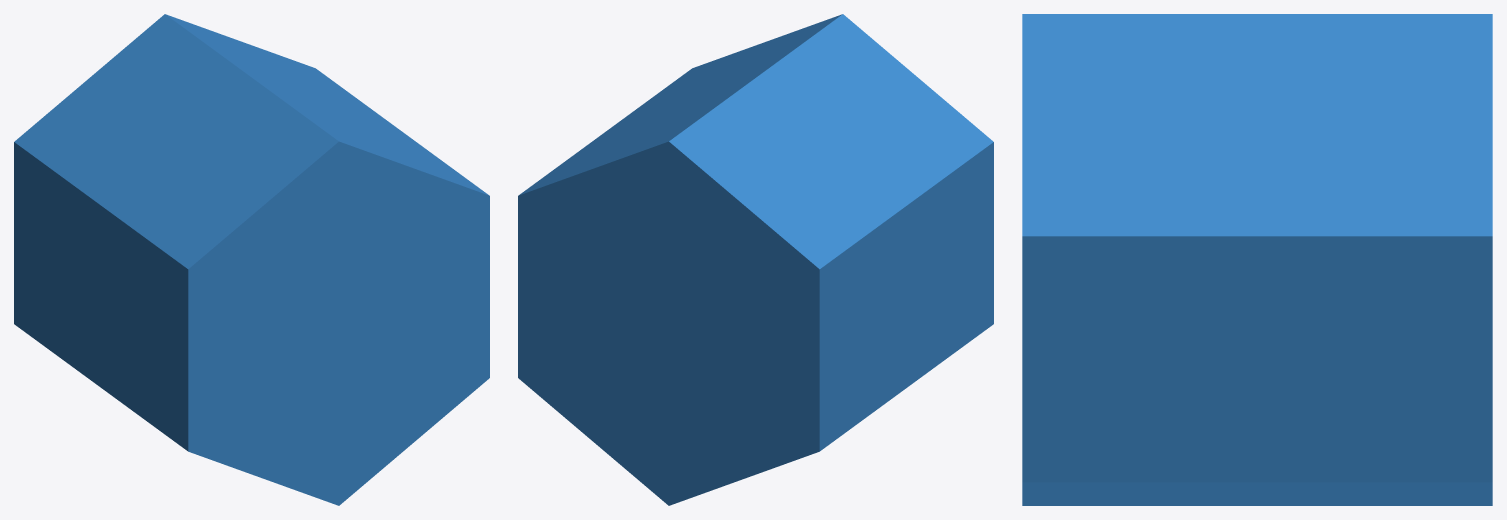
The model's file is hex_prism.obj.
The picture shows the model from 3 angles, left to right: view 1: azimuth 30°, elevation 25°; view 2: azimuth 150°, elevation 25°; view 3: azimuth 270°, elevation 25°; orthographic projection. The views are drawn at different scales.
Size of the model in its own units: 0.05 by 0.0577 by 0.05.
